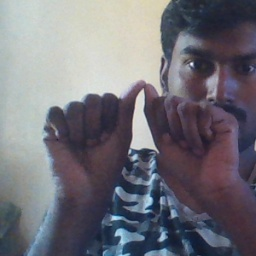A: (41, 80, 242, 208)
